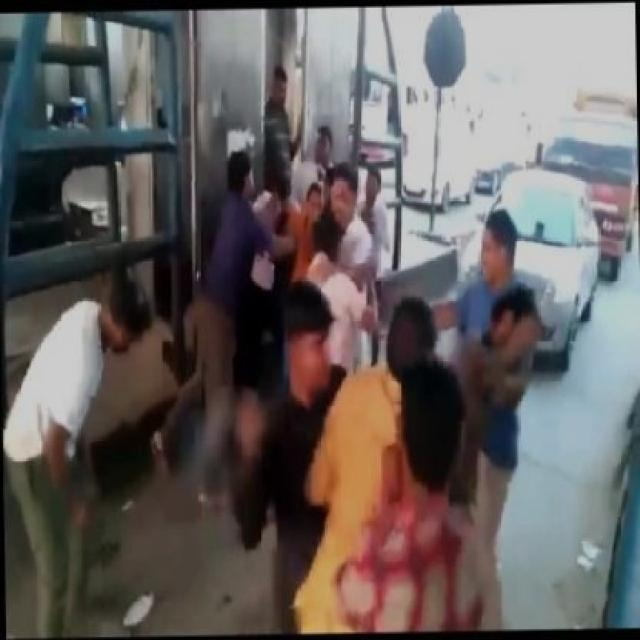fight: (234, 291, 443, 640)
non-fight: (380, 201, 537, 640), (0, 267, 149, 640), (151, 154, 296, 515)
